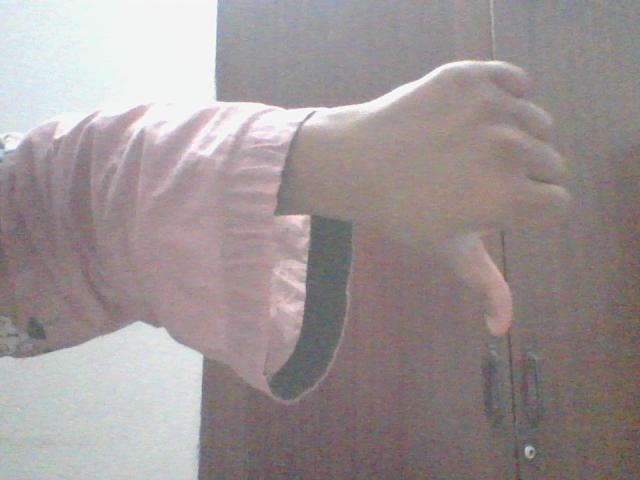thumbs-down: (393, 53, 590, 333)
